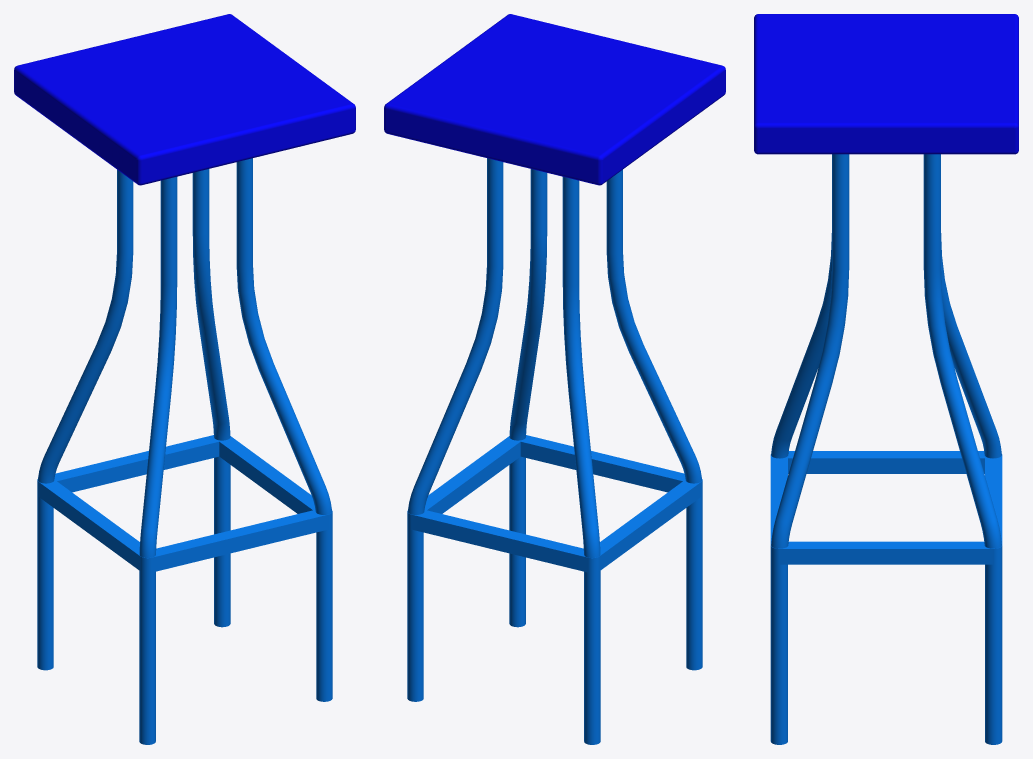
File: Chaises_FBX.fbx
3 renders of one model, left to right at view 1: azimuth 30°, elevation 25°; view 2: azimuth 150°, elevation 25°; view 3: azimuth 270°, elevation 25°, orthographic. The views are drawn at different scales.
Parts seen in each view (by area): view 1: chaises; view 2: chaises; view 3: chaises.
Boxes of the visible parts, x1,y1,x2,y2 form: chaises: [14, 14, 355, 744]; chaises: [384, 14, 725, 744]; chaises: [754, 14, 1018, 744].
Size of the model in its own units: 30.61 by 80 by 30.61.
